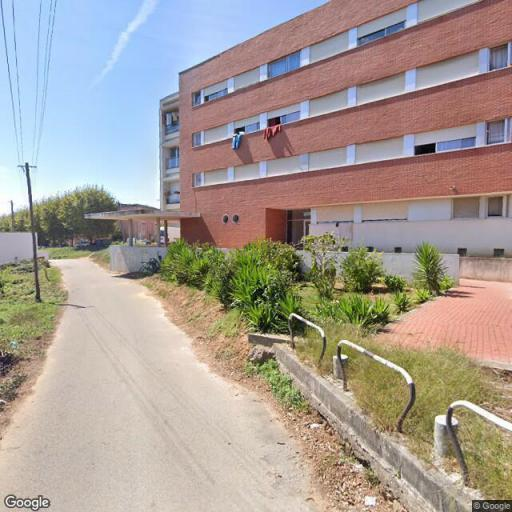mono_7: (17, 158, 44, 298)
